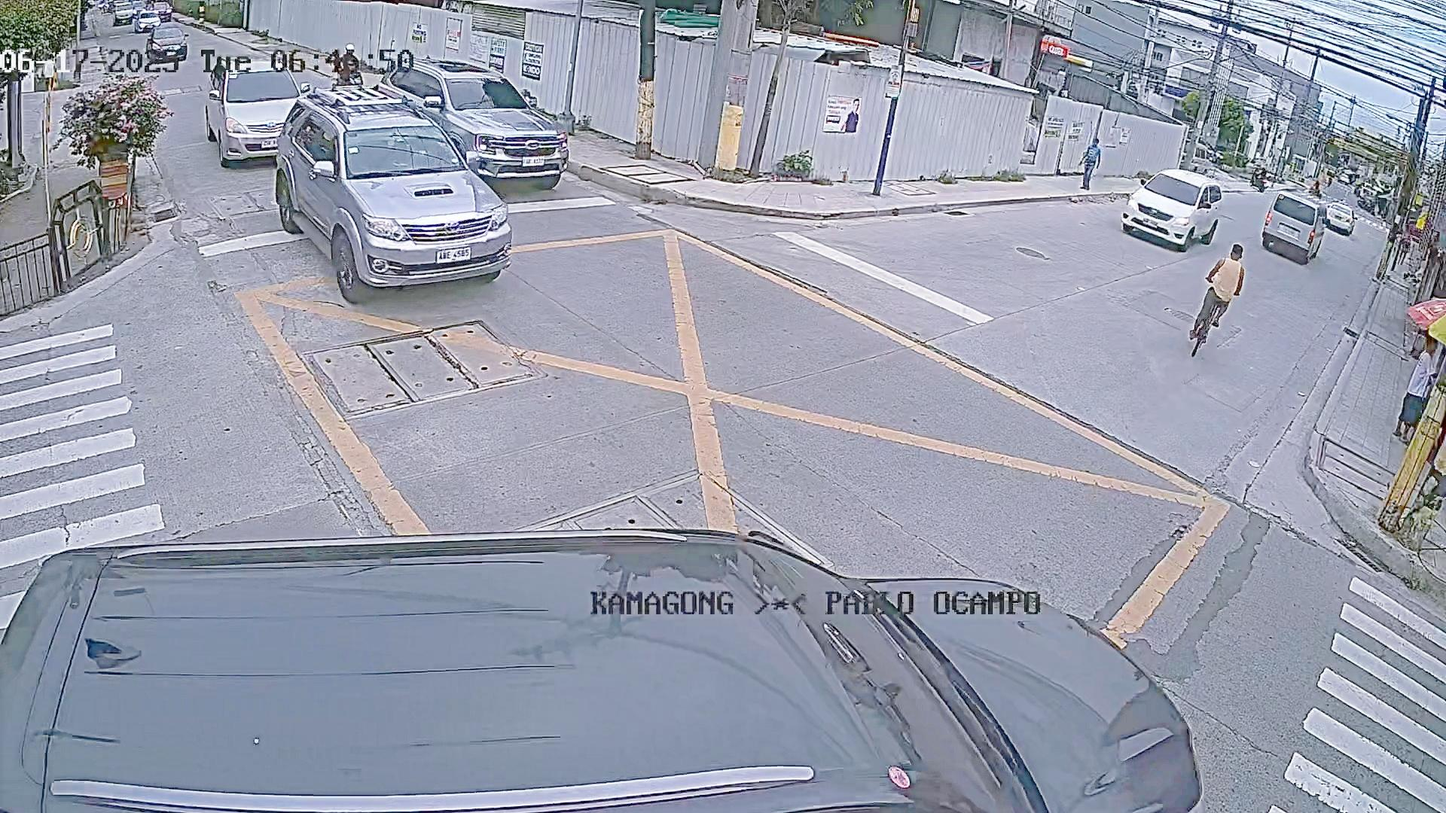Car: (8, 489, 1227, 813), (265, 95, 516, 304), (400, 38, 610, 188), (181, 57, 339, 163), (1103, 143, 1228, 251), (1259, 185, 1332, 283)
